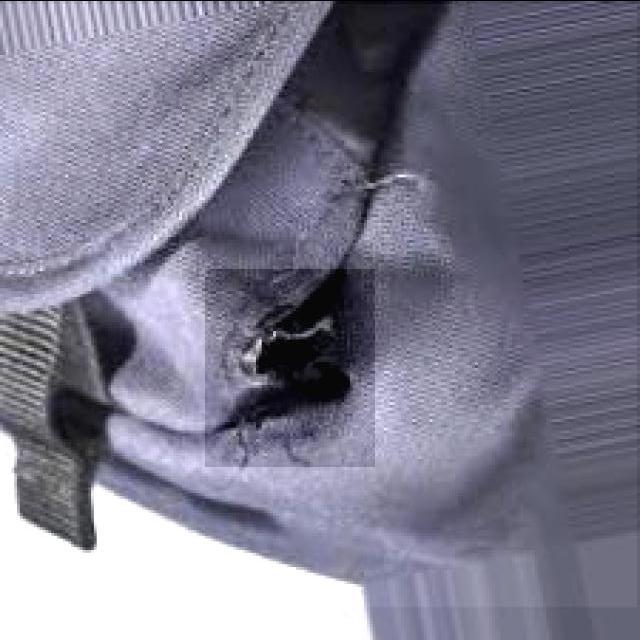Damage-bag: (272, 0, 449, 220), (205, 266, 374, 466)
